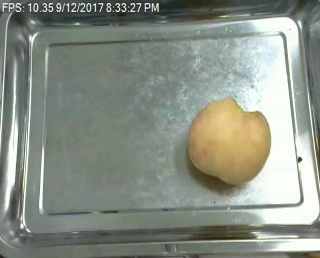Peach: (186, 98, 271, 186)
